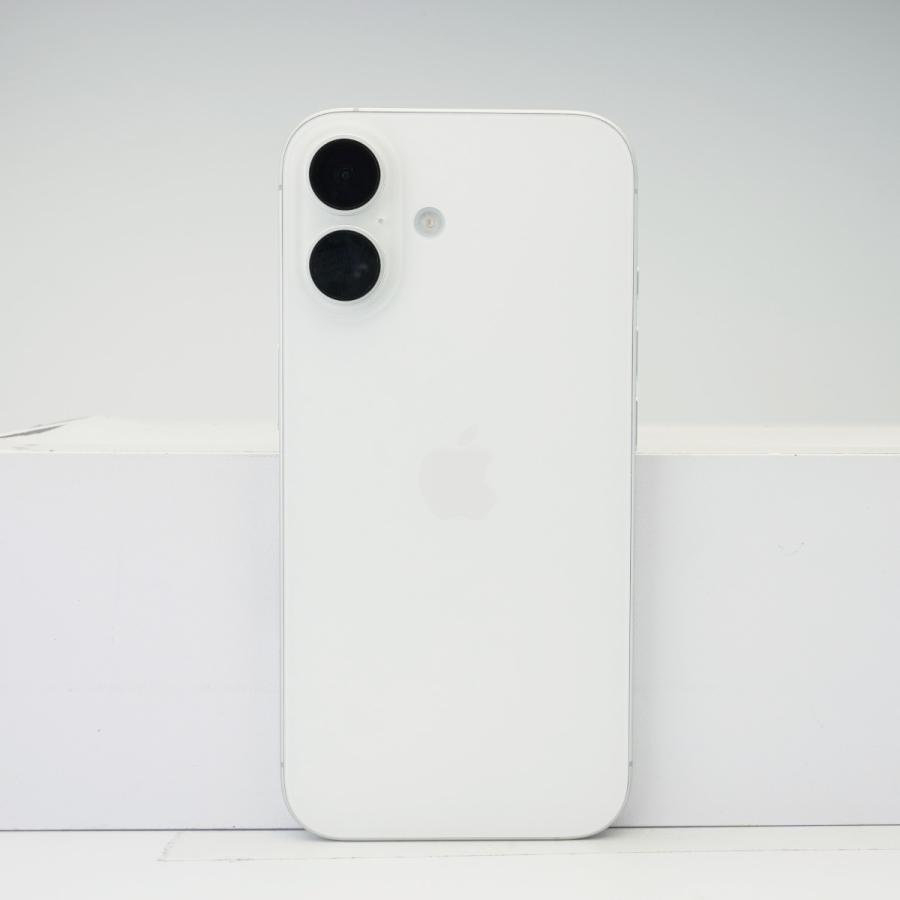iphone16_white: (250, 86, 674, 858), (279, 121, 462, 322)
